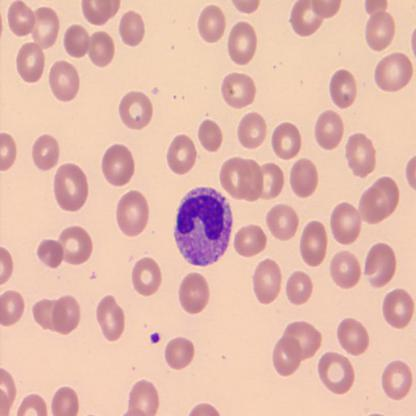Band Neutrophil: (172, 183, 233, 269)
